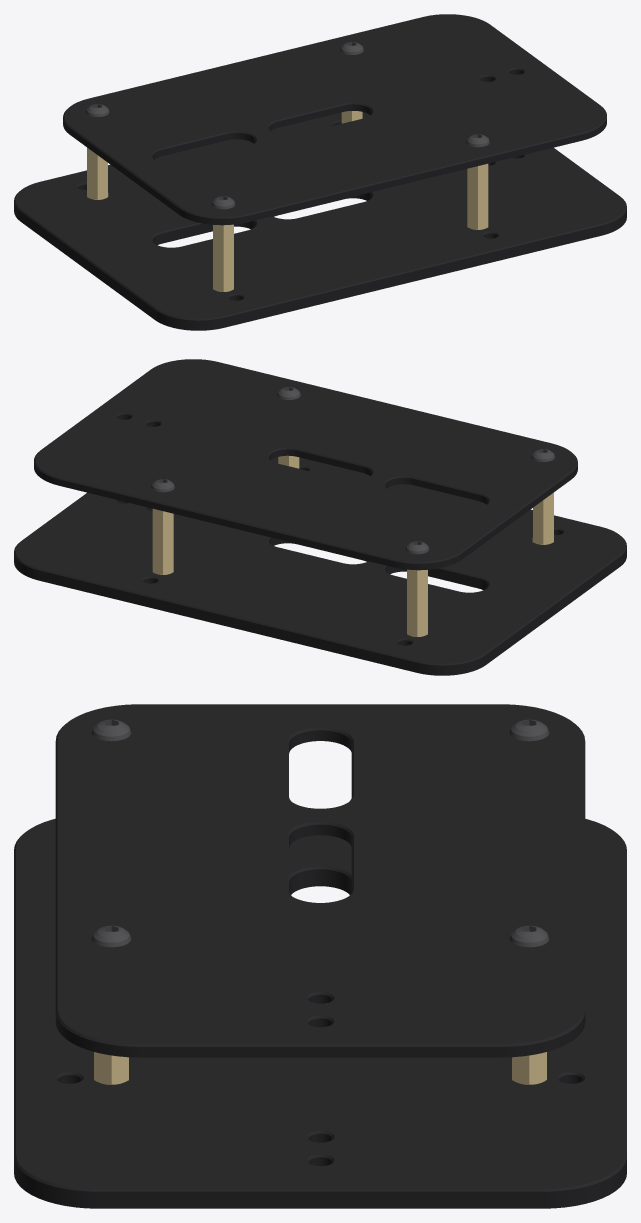
The model's file is frame-plates.glb.
The picture shows the model from 3 angles, top to bottom: view 1: azimuth 30°, elevation 25°; view 2: azimuth 150°, elevation 25°; view 3: azimuth 270°, elevation 25°; orthographic projection. The views are drawn at different scales.
Parts seen in each view (by area): view 1: frame-plates; view 2: frame-plates; view 3: frame-plates.
Part boxes in pixels (x1,y1,x2,y2): frame-plates: [14, 14, 626, 330]; frame-plates: [14, 359, 626, 675]; frame-plates: [14, 704, 626, 1208].
Size of the model in its own units: 128 by 28.07 by 87.99.
